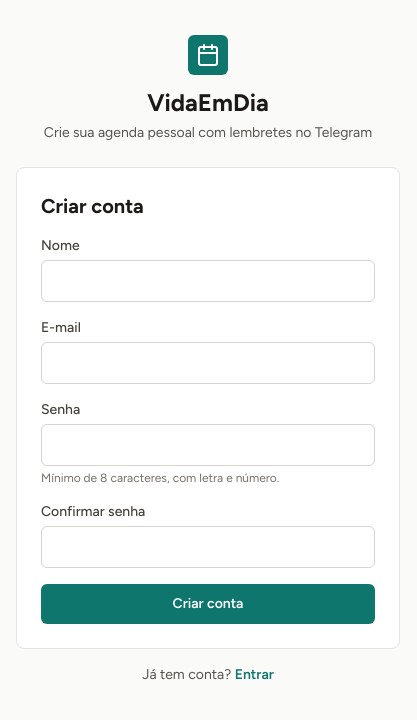
Test: Criar Conta › e-mail já usado ("dr.joao@vidaemdia.com.br") mostra a mensagem do servidor
The image size is (417, 720).
In the field labelled "Nome": (208, 281) left=41, top=260, right=375, bottom=302, type "Dr. João"
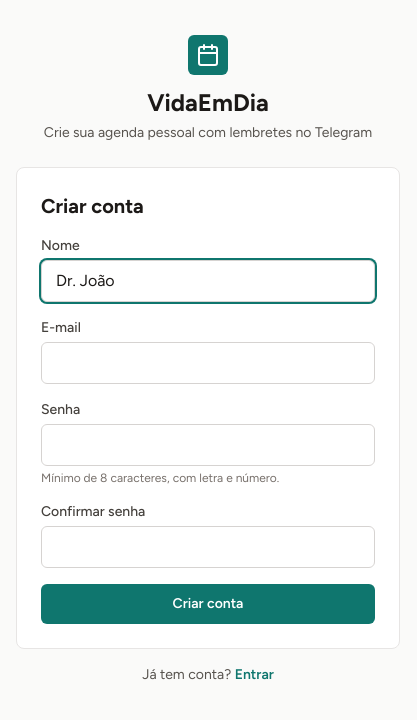
In the field labelled "E-mail": (208, 363) left=41, top=342, right=375, bottom=384, type "dr.joao@vidaemdia.com.br"
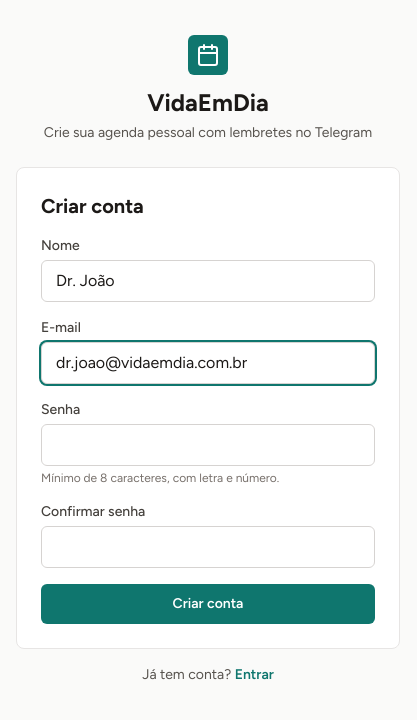
In the password field labelled "Senha": (208, 445) left=41, top=424, right=375, bottom=466, type "senha1234"
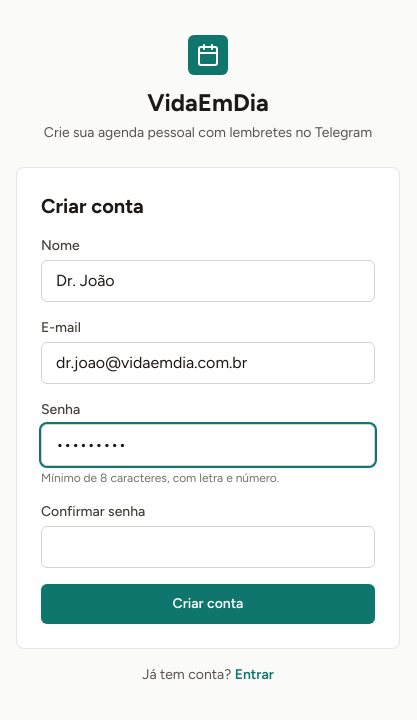
In the password field labelled "Confirmar senha": (208, 547) left=41, top=526, right=375, bottom=568, type "senha1234"
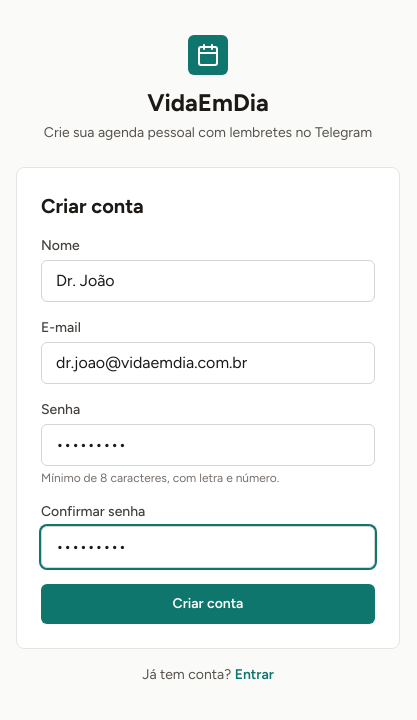
Click the button "Criar conta": (208, 604) left=41, top=584, right=375, bottom=624
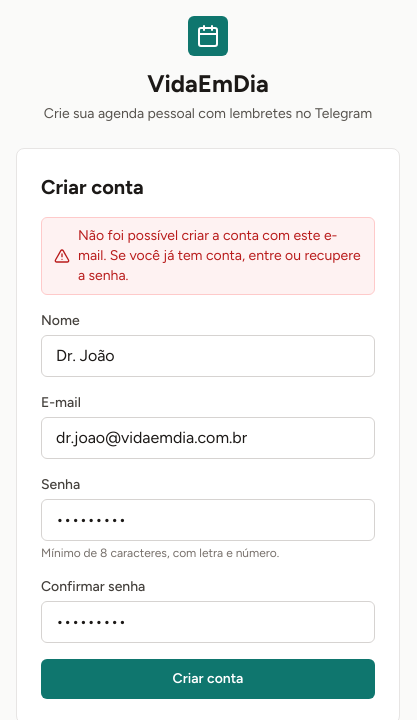
Check: the text "Não foi possível criar a conta com este e-mail. Se você já tem conta, entre ou recupere a senha." is shown, box left=78, top=227, right=360, bottom=284
